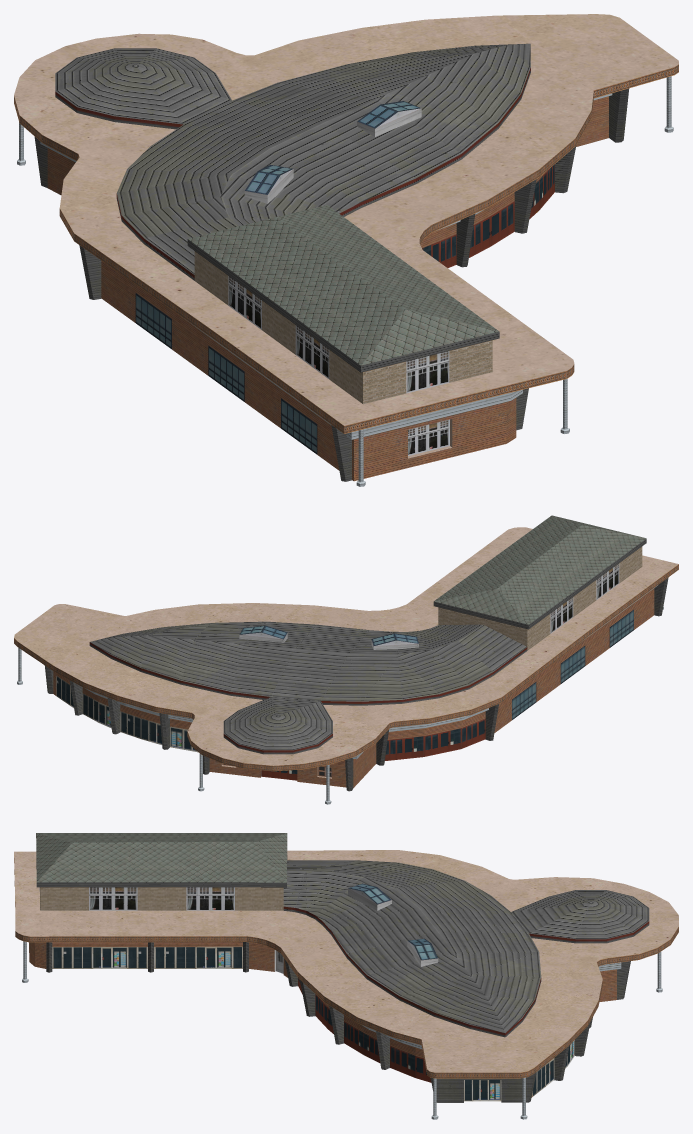
Rendered from WoodHouse_C.obj.
3 views of the same model, one above another, from view 1: azimuth 30°, elevation 25°; view 2: azimuth 150°, elevation 25°; view 3: azimuth 270°, elevation 25° (orthographic). The views are drawn at different scales.
Bounding box in the file's own units: 56.78 × 11.2 × 71.6.
Materials: 2 (2 with a texture image).
